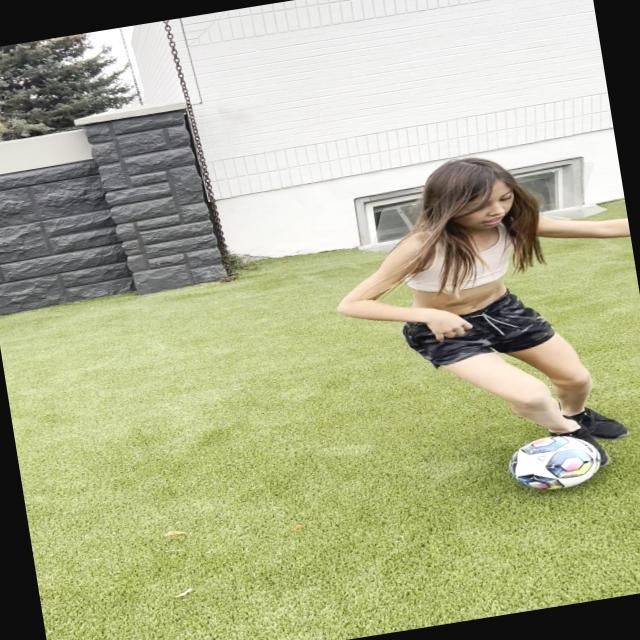Soccer Ball: (504, 428, 606, 496)
